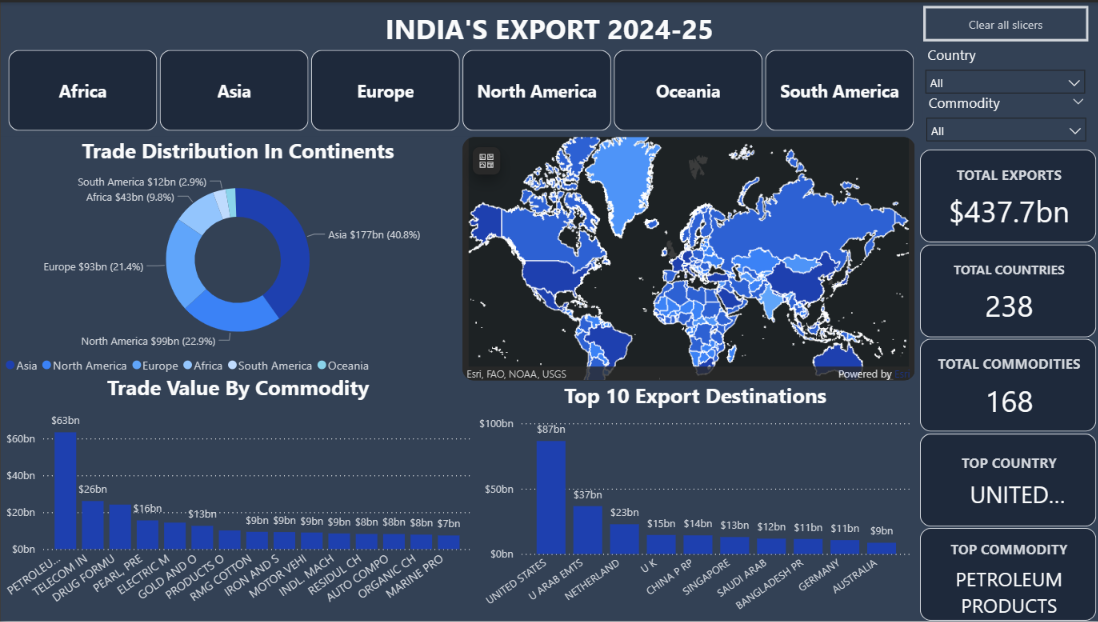

Layout of this report page (visuals, bound fields, positions):
{"tool":"powerbi","page":{"name":"2025","canvas":[1280,720],"ordinal":0},"visuals":[{"type":"textbox","box":[0,0,1280,67.6],"z":0},{"type":"slicer","fields":{"Values":["export fy25.Commodity"]},"box":[1065.3,105,207.5,63.9],"z":1000},{"type":"advancedSlicerVisual","fields":{"Values":["export fy25.Continent"],"Label":["Sum(export fy25.Trade_Value_USD)"]},"box":[0,47.1,1072.5,112.2],"z":2000},{"type":"donutChart","title":"Trade Distribution In Continents","fields":{"Category":["export fy25.Continent"],"Y":["Sum(export fy25.Trade_Value_USD)"]},"box":[0,155.3,551.5,284.9],"z":3000},{"type":"columnChart","title":"Top 10 Export Destinations","fields":{"Y":["Sum(export fy25.Trade_Value_USD)"],"Category":["export fy25.Country"]},"box":[551.3,440.4,512.7,279.9],"z":4000},{"type":"columnChart","title":"Trade Value By Commodity","fields":{"Y":["Sum(export fy25.Trade_Value_USD)"],"Category":["export fy25.Short_Commodity"]},"box":[0,430.9,551.6,289.5],"z":5000},{"type":"slicer","fields":{"Values":["export fy25.Country"]},"box":[1064.1,44.6,207.5,63.9],"z":6000},{"type":"cardVisual","fields":{"Data":["Sum(export fy25.Trade_Value_USD)","Count(export fy25.Country)","Count(export fy25.Commodity)","export fy25.Top Country","export fy25.Top Commodity"]},"box":[1064.1,166.5,216,553.8],"z":7000},{"type":"esriVisual","fields":{"Location":["export fy25.Country"],"Color":["export fy24.Country Rank"]},"box":[536,155.8,527.9,284.9],"z":8000},{"type":"actionButton","box":[1068.9,0,200.3,49.5],"z":9000}]}

Visuals, with their boxes in screenshot pixels (x1, y1, x2, y2), scaled from the page's 1280x720 canvas onto the 1098x622 screenshot:
textbox: pyautogui.locateOnScreen(0, 0, 1097, 58)
slicer - export fy25.Commodity: pyautogui.locateOnScreen(914, 91, 1092, 146)
advancedSlicerVisual - export fy25.Continent x Sum(export fy25.Trade_Value_USD): pyautogui.locateOnScreen(0, 41, 920, 138)
"Trade Distribution In Continents" donutChart: pyautogui.locateOnScreen(0, 134, 473, 380)
"Top 10 Export Destinations" columnChart: pyautogui.locateOnScreen(473, 380, 913, 621)
"Trade Value By Commodity" columnChart: pyautogui.locateOnScreen(0, 372, 473, 621)
slicer - export fy25.Country: pyautogui.locateOnScreen(913, 39, 1091, 94)
cardVisual - Sum(export fy25.Trade_Value_USD) x Count(export fy25.Country): pyautogui.locateOnScreen(913, 144, 1097, 621)
esriVisual - export fy25.Country x export fy24.Country Rank: pyautogui.locateOnScreen(460, 135, 913, 381)
actionButton: pyautogui.locateOnScreen(917, 0, 1089, 43)
